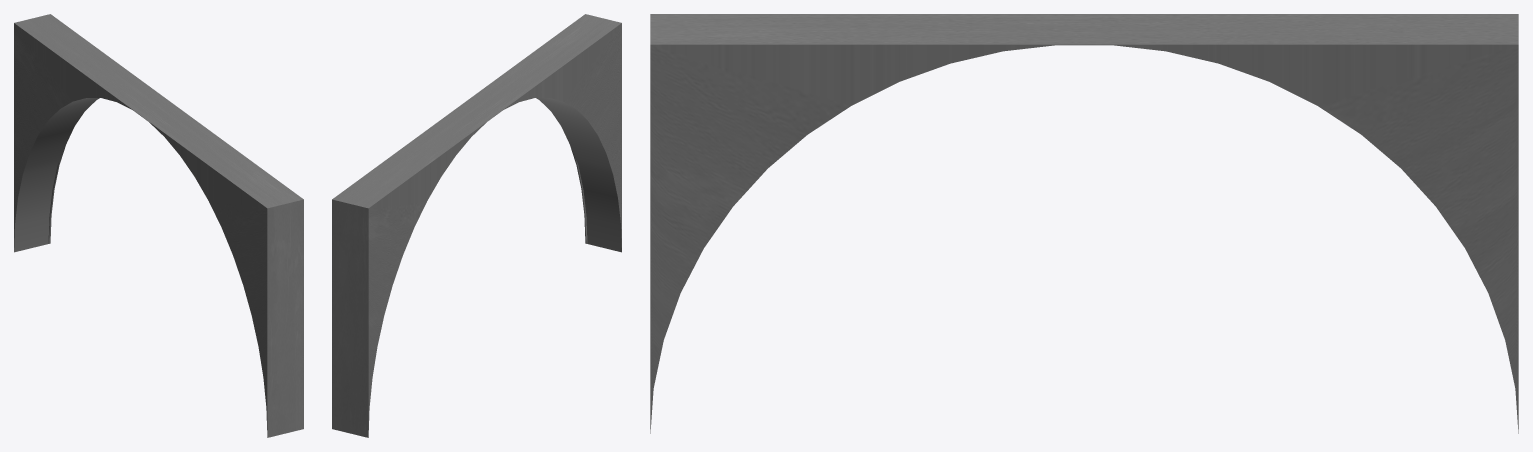
File: techoAbiertoPared.glb
3 renders of one model, left to right at view 1: azimuth 30°, elevation 25°; view 2: azimuth 150°, elevation 25°; view 3: azimuth 270°, elevation 25°, orthographic. The views are drawn at different scales.
Parts seen in each view (by area): view 1: Cube; view 2: Cube; view 3: Cube.
Part boxes in pixels (x1=…): Cube: x1=14, y1=14, x2=303, y2=437; Cube: x1=332, y1=14, x2=621, y2=437; Cube: x1=650, y1=14, x2=1518, y2=433.
Bounding box in the file's own units: 1 × 6 × 12.
Materials: 1 (1 with a texture image).
